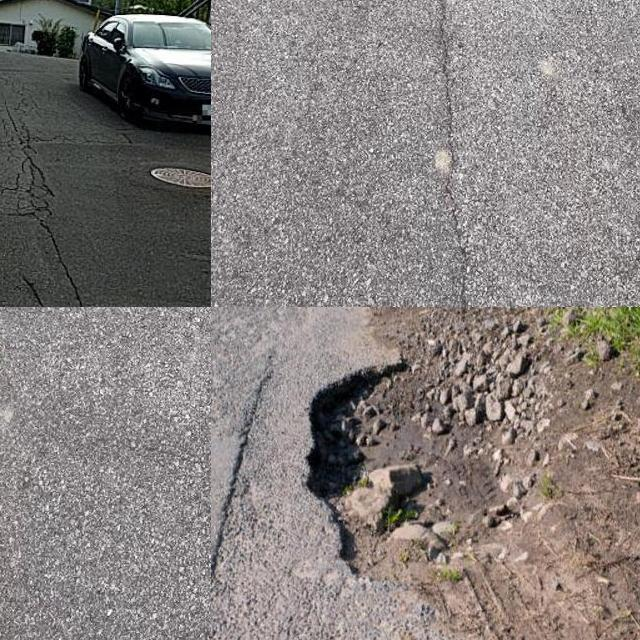Memanjang: (0, 87, 103, 307), (423, 0, 488, 307)
Pinggir: (281, 358, 582, 640)
